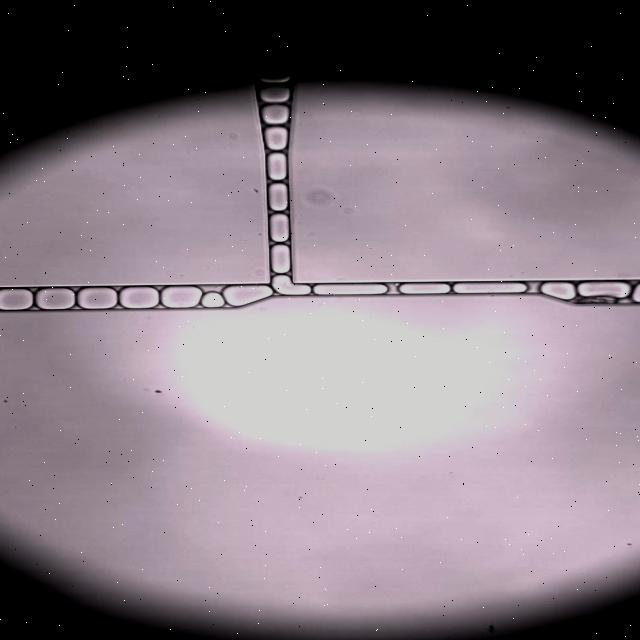L: (272, 275, 310, 295), (541, 282, 575, 300), (258, 84, 290, 103), (260, 105, 289, 125), (264, 127, 288, 150), (271, 245, 290, 274), (399, 283, 449, 294), (267, 153, 287, 180), (269, 183, 288, 211), (270, 214, 289, 242), (258, 72, 290, 83), (631, 284, 640, 302)
S: (224, 286, 272, 306), (577, 282, 630, 300), (161, 287, 202, 308), (77, 288, 117, 309), (119, 287, 159, 308), (36, 288, 75, 309), (313, 284, 387, 295), (454, 282, 526, 293), (0, 289, 33, 310), (201, 292, 224, 307)
